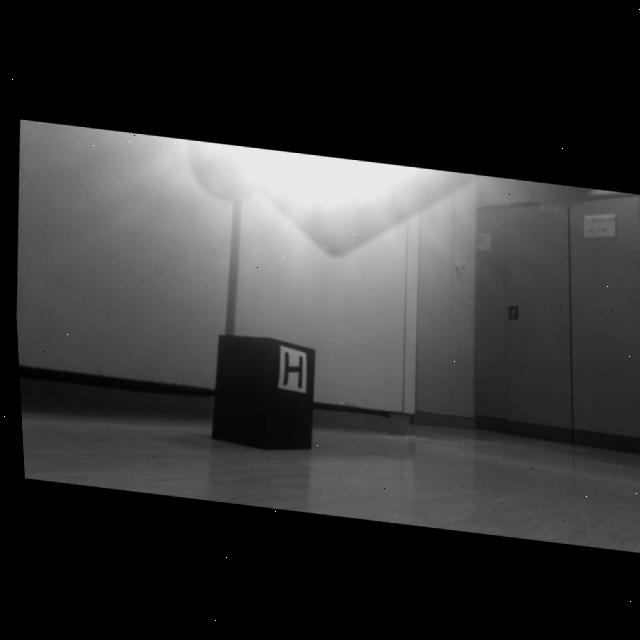H: (279, 348, 298, 385)
